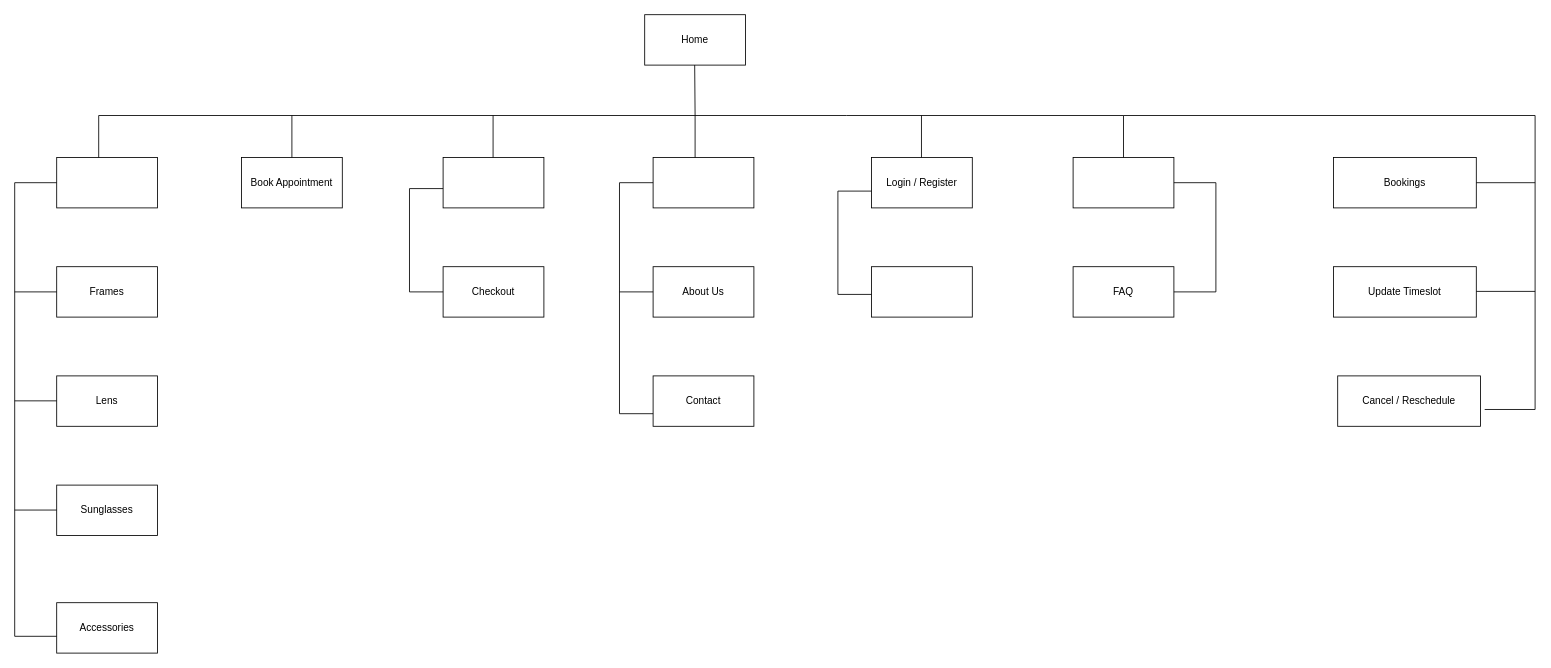
Some shapes in this 1551 by 668 pixel diagram are drawn without their labels. Here are the shapes that lost their labels. From the top down, the centre of each, then its label:
At (x=107, y=182): "Shop".
At (x=493, y=182): "Cart".
At (x=703, y=182): "Info".
At (x=1123, y=182): "Help".
At (x=921, y=291): "Profile".
